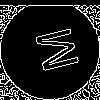M: (25, 25, 80, 77)
